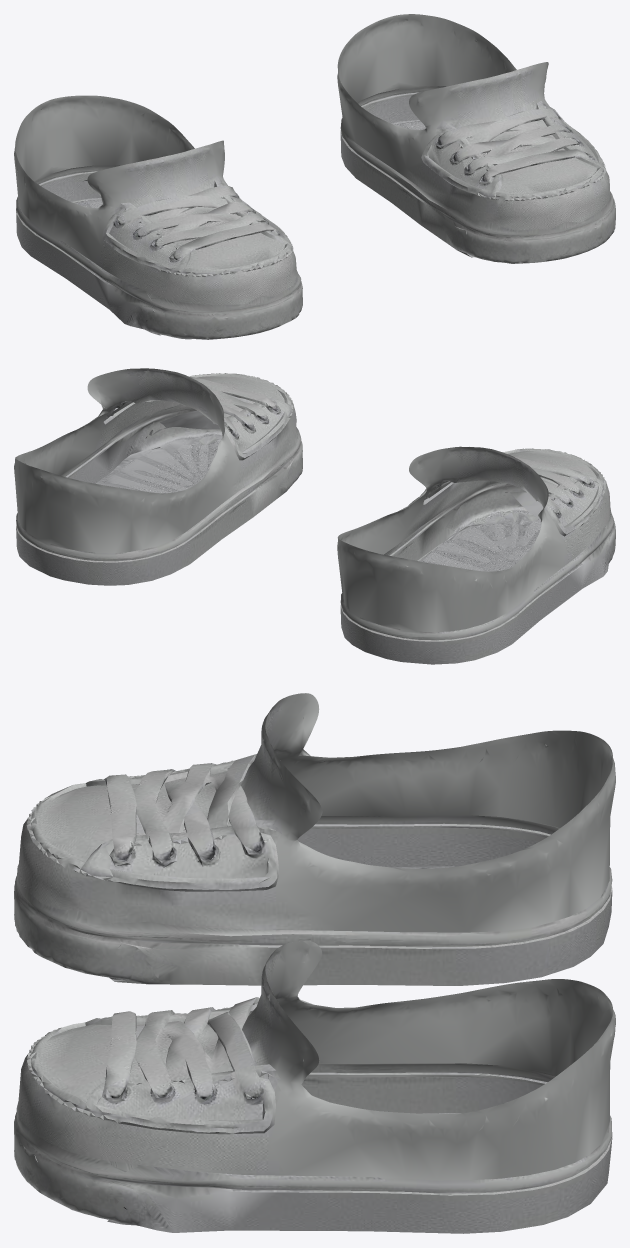
The model's file is WhiteSneaker_smoothed_v2.glb.
The picture shows the model from 3 angles, top to bottom: view 1: azimuth 30°, elevation 25°; view 2: azimuth 150°, elevation 25°; view 3: azimuth 270°, elevation 25°; orthographic projection. The views are drawn at different scales.
Visible parts, largest first — view 1: WhiteSneakers; view 2: WhiteSneakers; view 3: WhiteSneakers.
Part boxes in pixels (left/top/right/bottom): WhiteSneakers: left=14, top=14, right=615, bottom=339; WhiteSneakers: left=14, top=368, right=615, bottom=664; WhiteSneakers: left=14, top=693, right=615, bottom=1233.
Bounding box in the file's own units: 0.5371 × 0.1374 × 0.371.
Materials: 1 (1 with a texture image).
